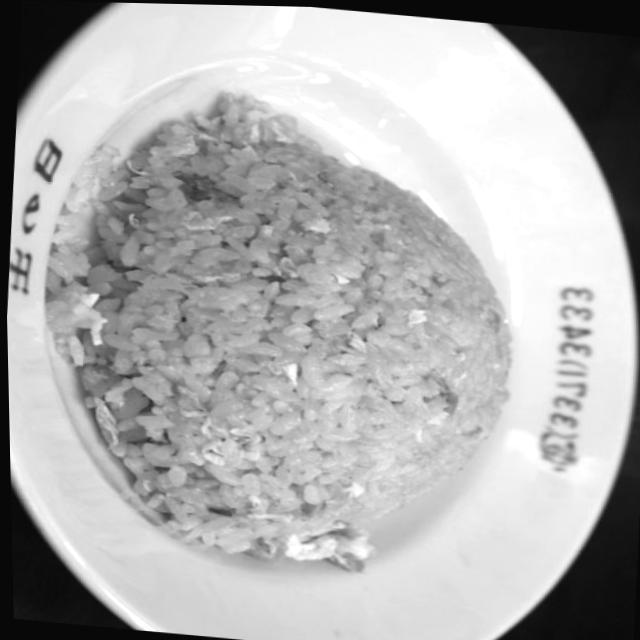米饭主食: (181, 343, 640, 640)
